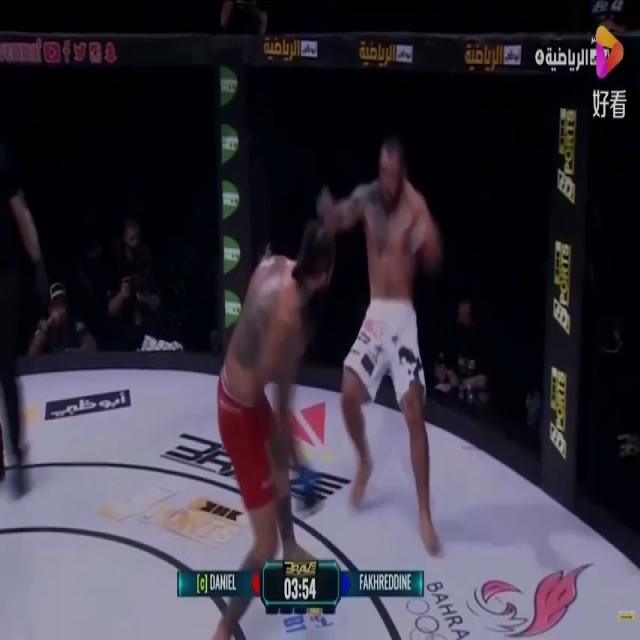fight: (206, 126, 443, 640)
